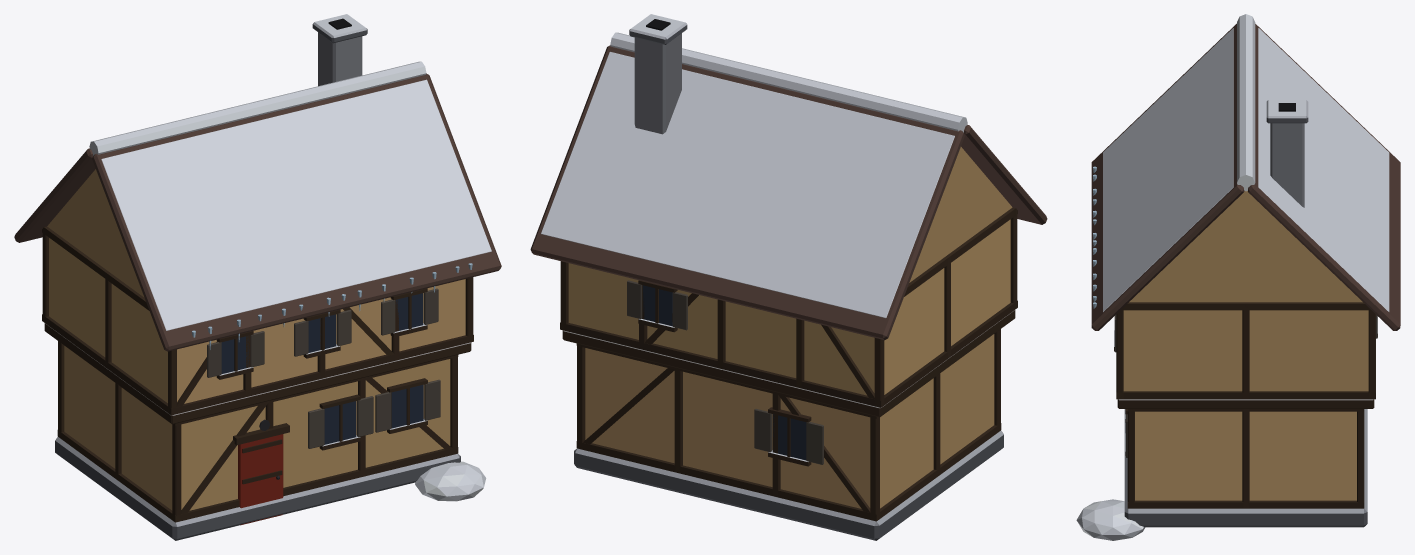
File: village_house_timber.glb
3 views of the same model, side by side, from view 1: azimuth 30°, elevation 25°; view 2: azimuth 150°, elevation 25°; view 3: azimuth 270°, elevation 25° (orthographic). The views are drawn at different scales.
Visible parts, largest first — view 1: village_house_timber; view 2: village_house_timber; view 3: village_house_timber.
Part boxes in pixels (left/top/right/bottom): village_house_timber: left=14, top=14, right=501, bottom=540; village_house_timber: left=530, top=14, right=1047, bottom=540; village_house_timber: left=1076, top=14, right=1400, bottom=540.
Bounding box in the file's own units: 8.5 × 10.02 × 7.07.
